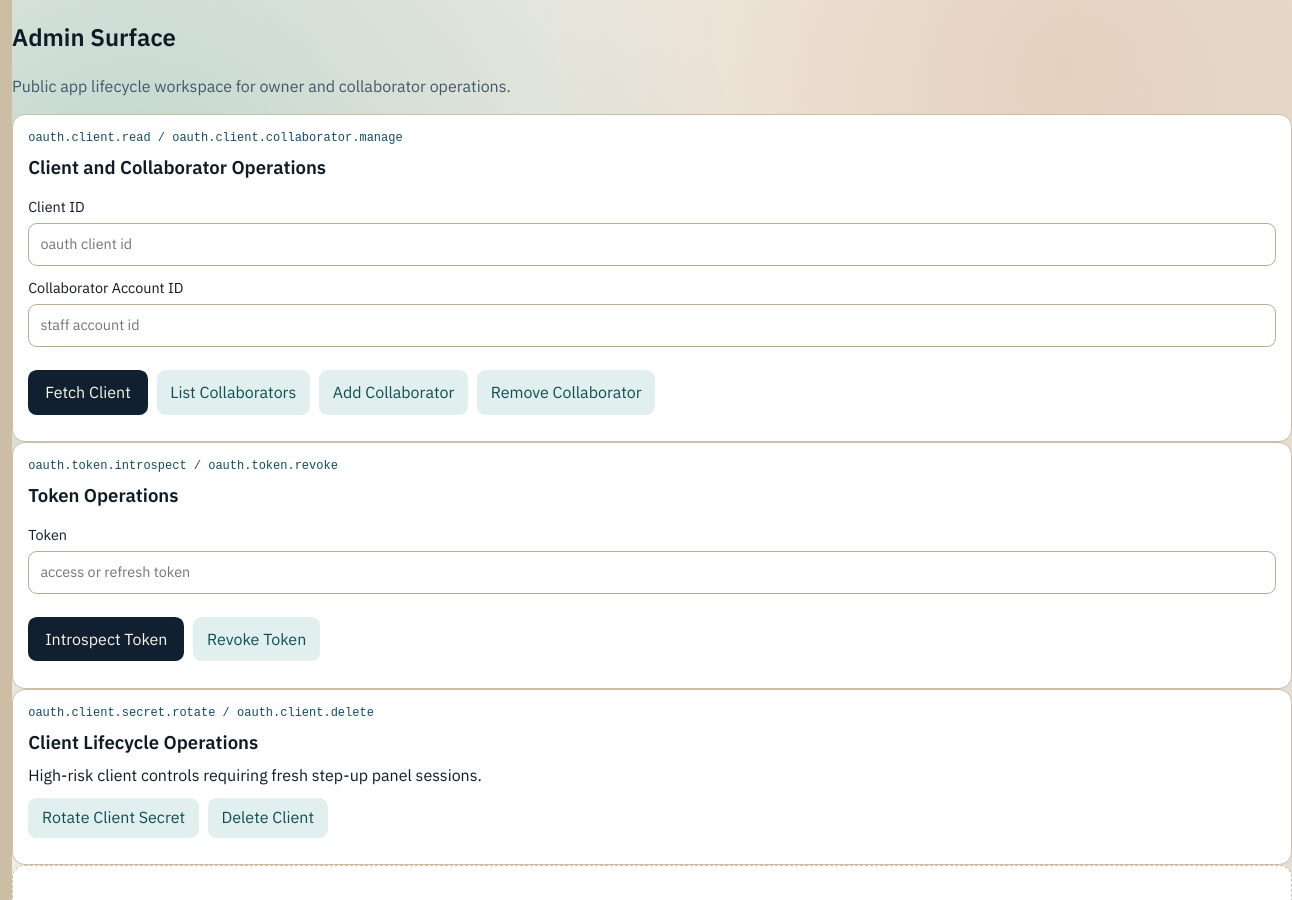
Test: AdminHomePage › introspects and revokes tokens with step-up context
This screenshot has width=1292, height=900.
In the field with placeholder "access or refresh token": point(652, 573) [28,551,1276,594], type "token-abc"
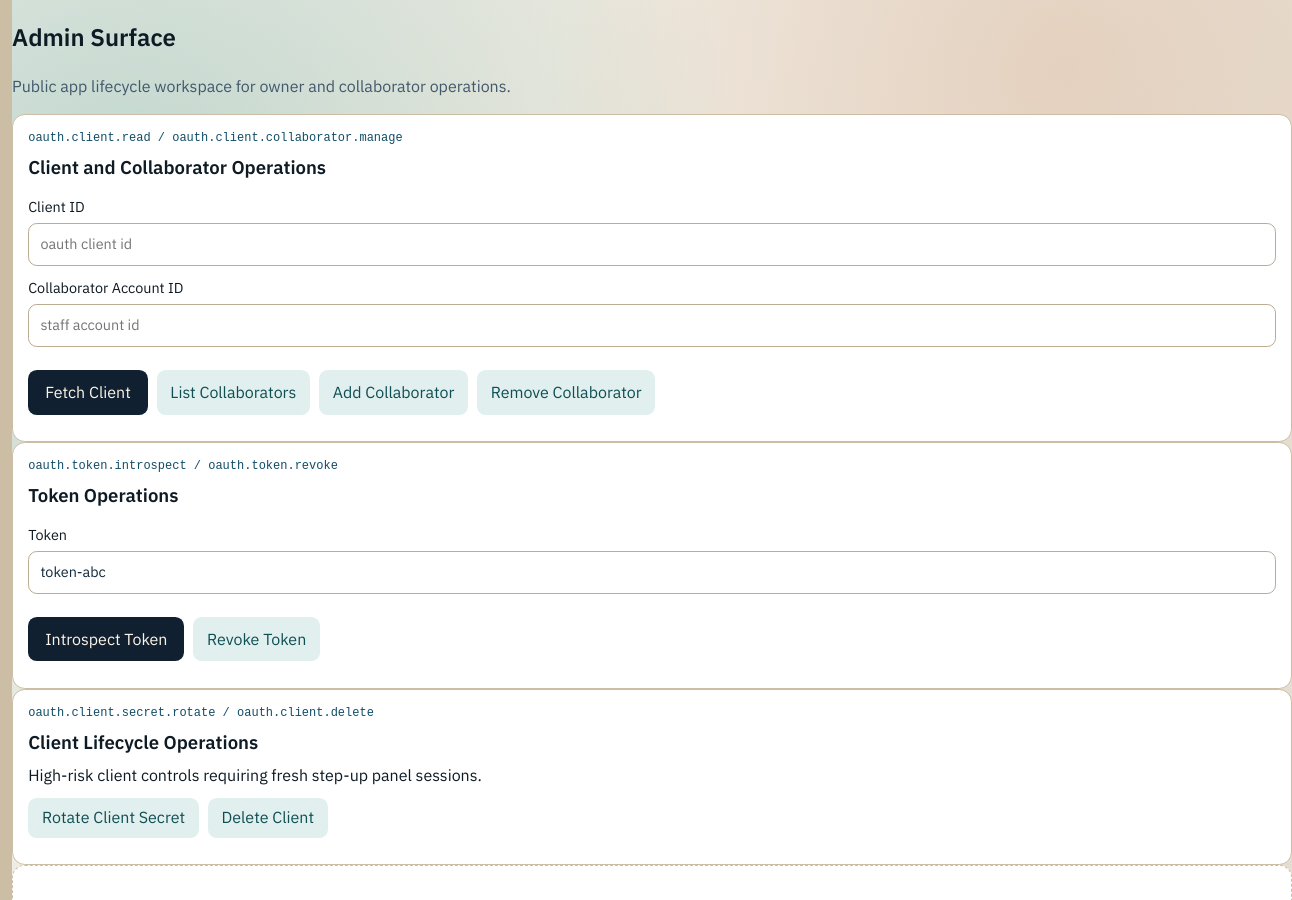
Click the button "Introspect Token": point(106, 639) [28,617,184,662]
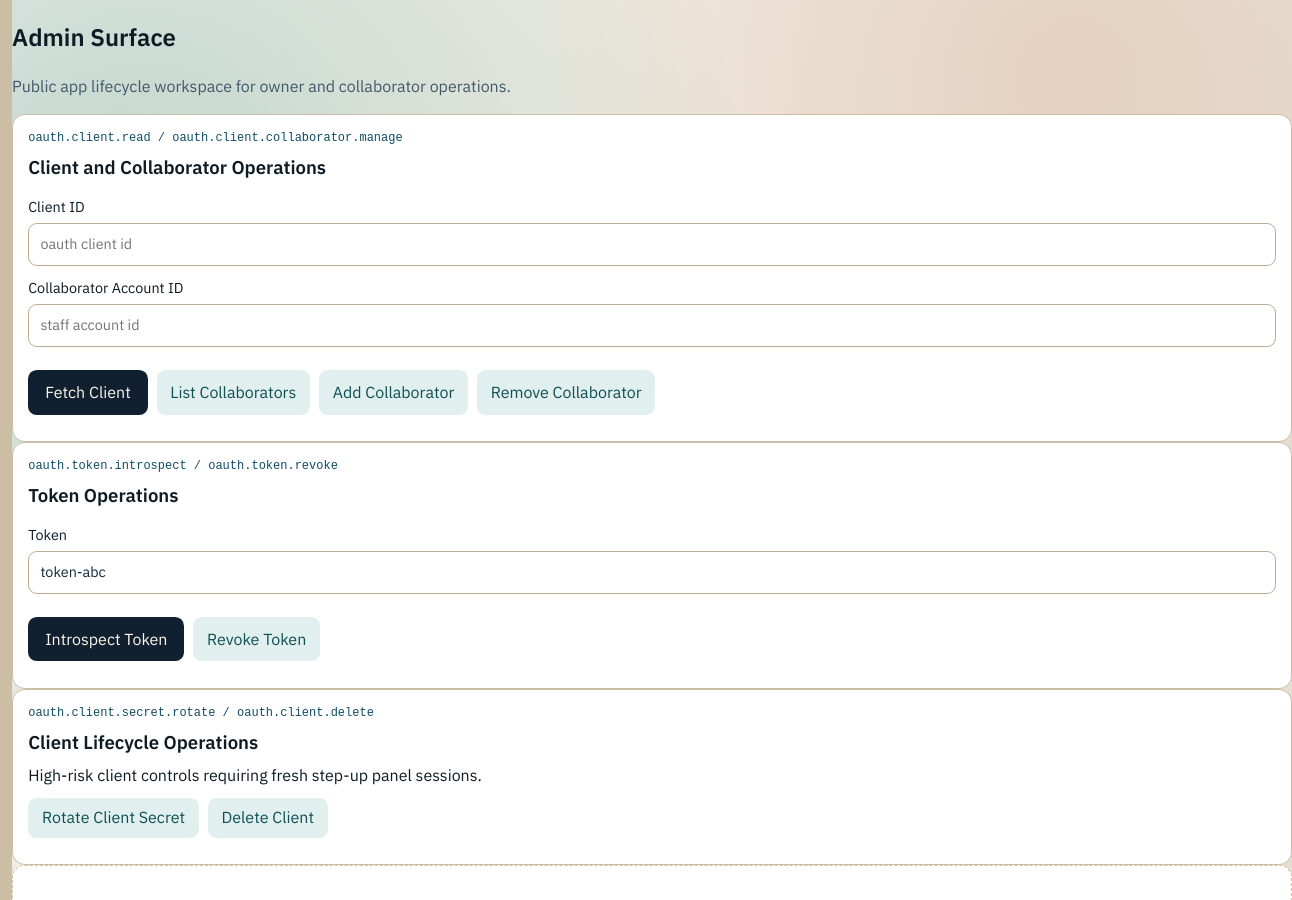
Click the button "Revoke Token": point(257, 639) [193,617,320,662]
(page scrolled)
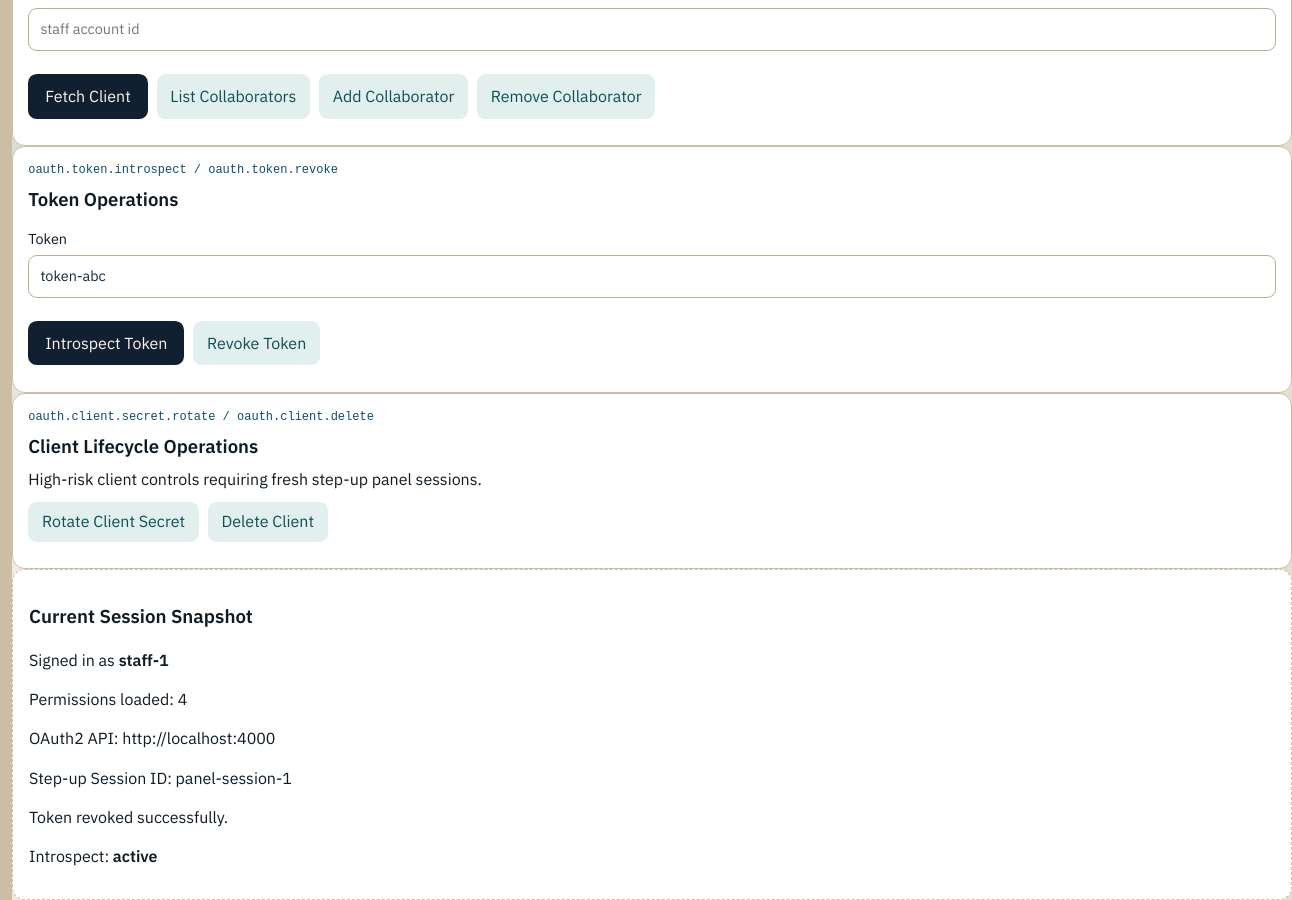
Now the text "Token revoked successfully." is shown, box [29,807,228,827]
